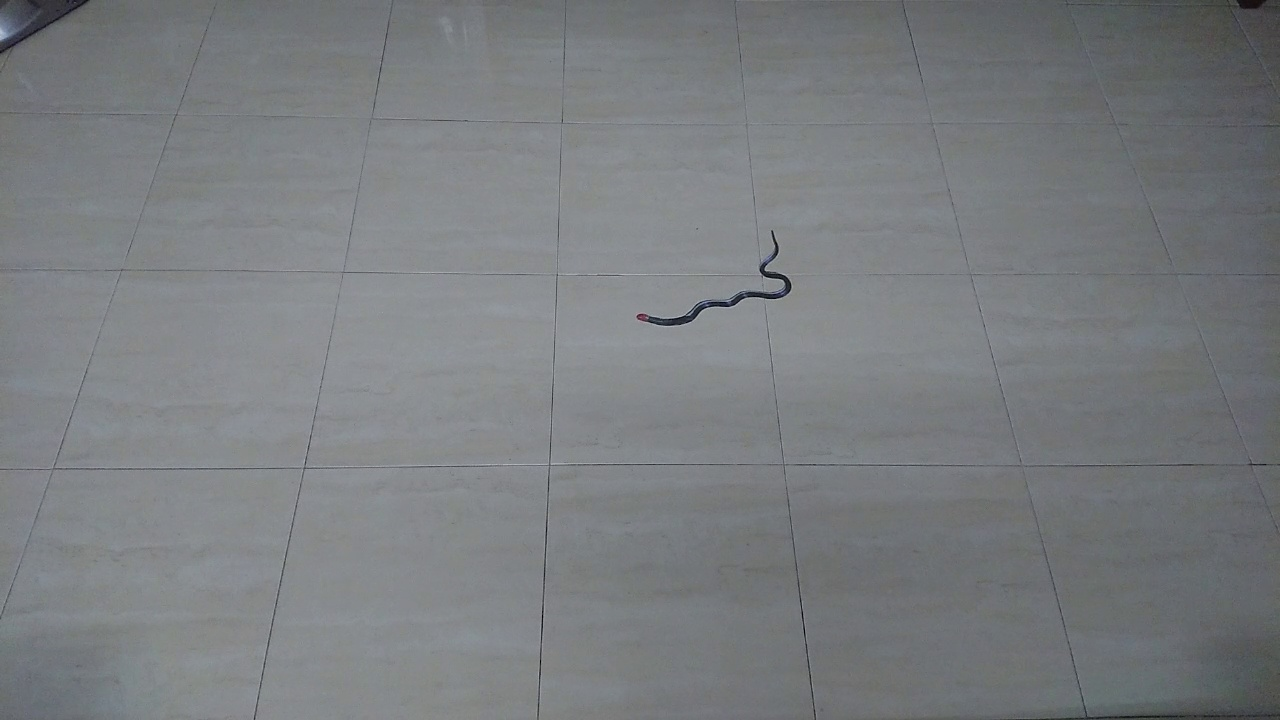snake: (618, 220, 804, 331)
